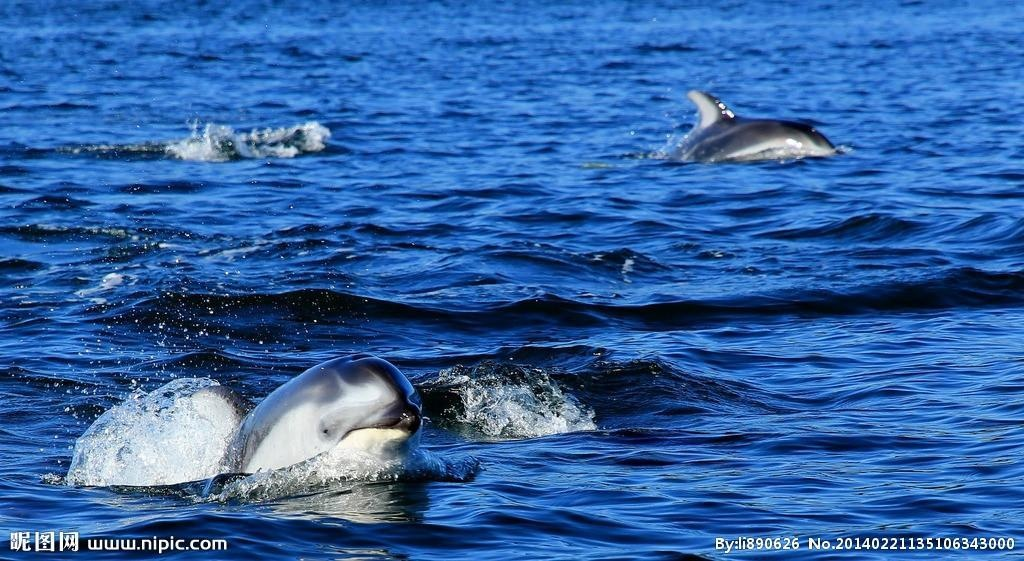fish: (196, 354, 429, 498), (653, 93, 843, 168)
